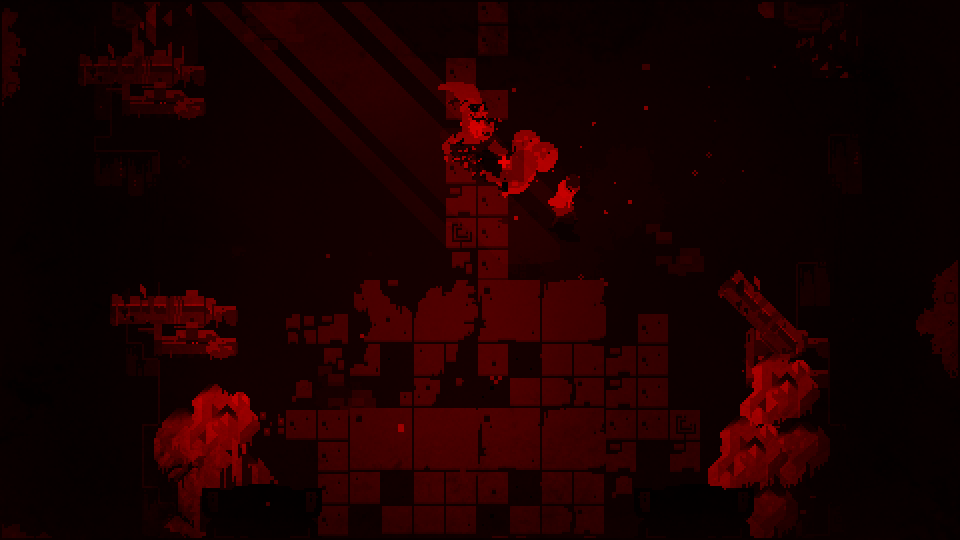hanged_man: (439, 84, 531, 194)
player: (548, 177, 582, 212)
